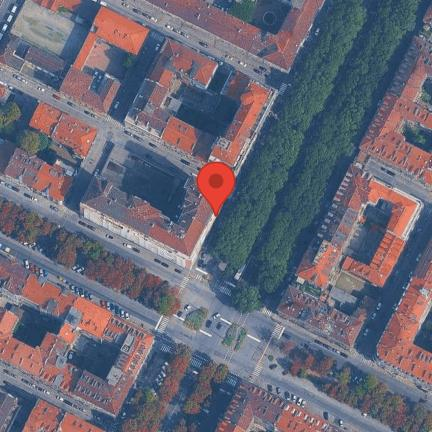area_open: (100, 136, 188, 218), (169, 62, 236, 134), (345, 199, 392, 265), (65, 330, 124, 381), (64, 0, 98, 78), (13, 299, 62, 342), (328, 274, 379, 312), (88, 38, 124, 86), (200, 310, 232, 357), (142, 346, 173, 394), (254, 0, 289, 32), (213, 1, 232, 11)
built: (272, 160, 426, 354), (124, 39, 277, 174), (78, 163, 239, 266), (37, 293, 158, 420), (357, 0, 432, 192), (143, 0, 324, 73), (57, 6, 153, 118), (0, 253, 77, 380), (373, 235, 432, 388), (215, 379, 356, 432), (0, 0, 83, 78), (1, 147, 79, 208), (29, 97, 99, 160), (19, 397, 106, 431), (0, 386, 20, 431)
vegetation_high: (227, 0, 429, 318), (208, 0, 374, 281)
vegetation_low: (0, 195, 185, 320), (268, 330, 432, 432), (122, 345, 197, 432), (168, 358, 230, 432), (0, 88, 62, 159), (179, 300, 211, 335), (222, 322, 250, 356), (398, 125, 432, 148), (416, 307, 432, 353), (231, 0, 255, 20), (422, 79, 432, 102), (123, 55, 139, 66)
